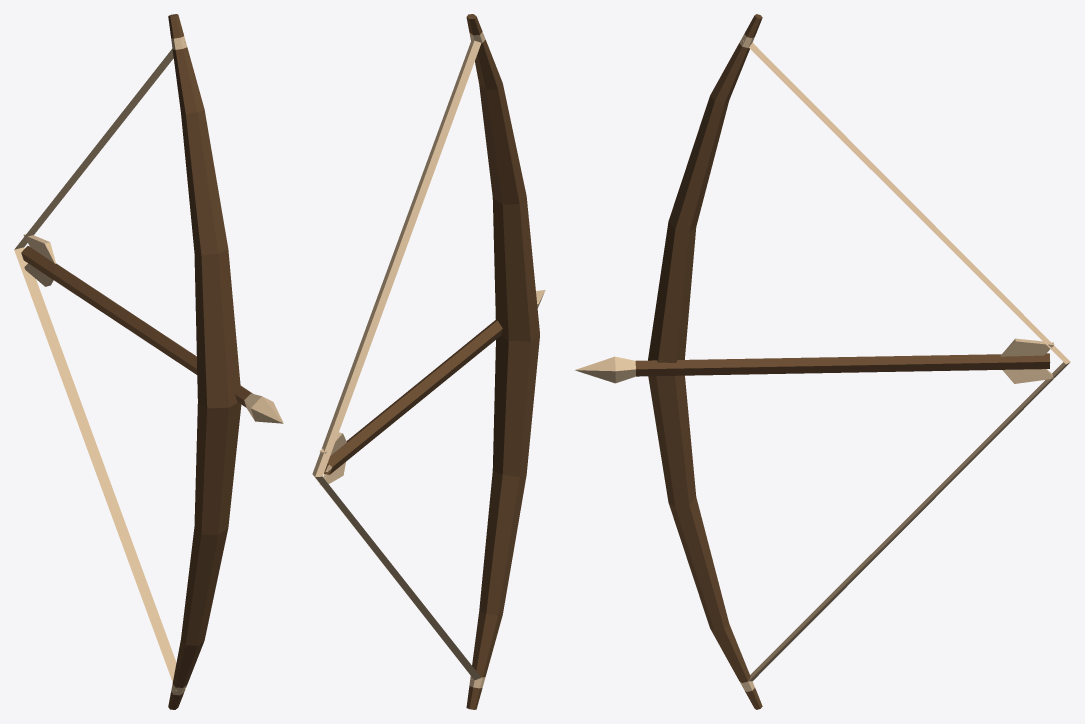
File: bow.glb
The picture shows the model from 3 angles, left to right: view 1: azimuth 30°, elevation 25°; view 2: azimuth 150°, elevation 25°; view 3: azimuth 270°, elevation 25°; orthographic projection.
Visible parts, largest first — view 1: bow; view 2: bow; view 3: bow.
Part boxes in pixels (x1,y1,x2,y2): bow: [14, 14, 283, 709]; bow: [312, 14, 545, 709]; bow: [574, 14, 1070, 709].
Size of the model in its own units: 0.0813 by 1.17 by 0.7615.
1 material, 1 textured.
